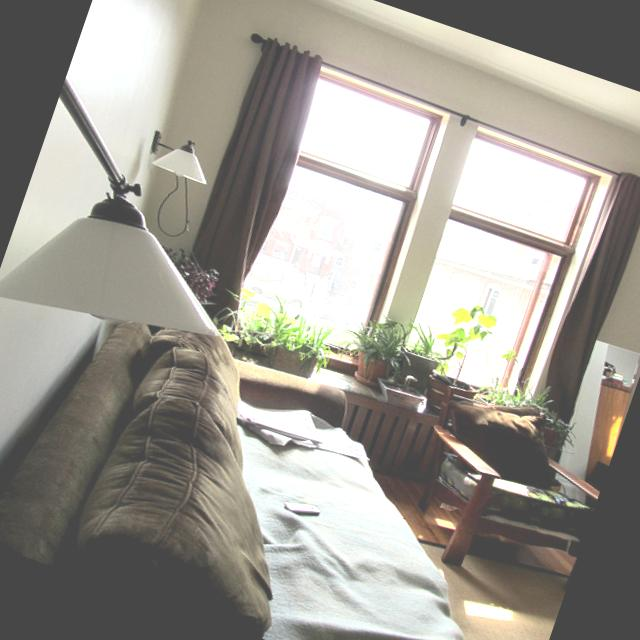Vehicle: (244, 270, 316, 312)
